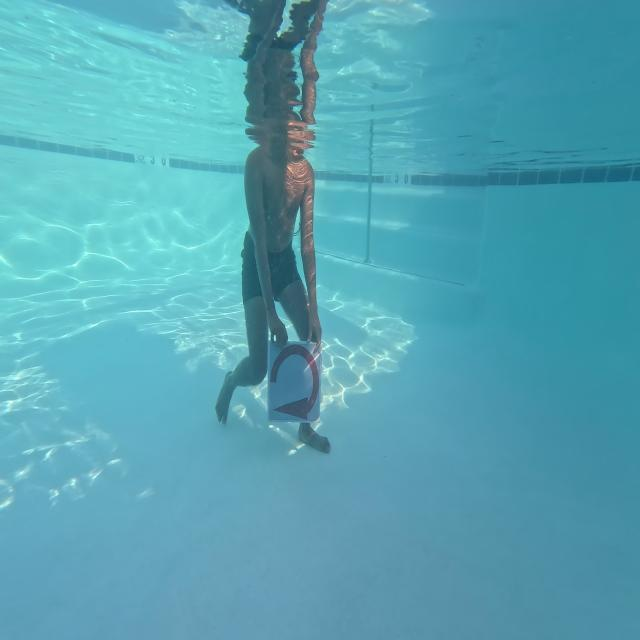red_side: (267, 338, 321, 426)
